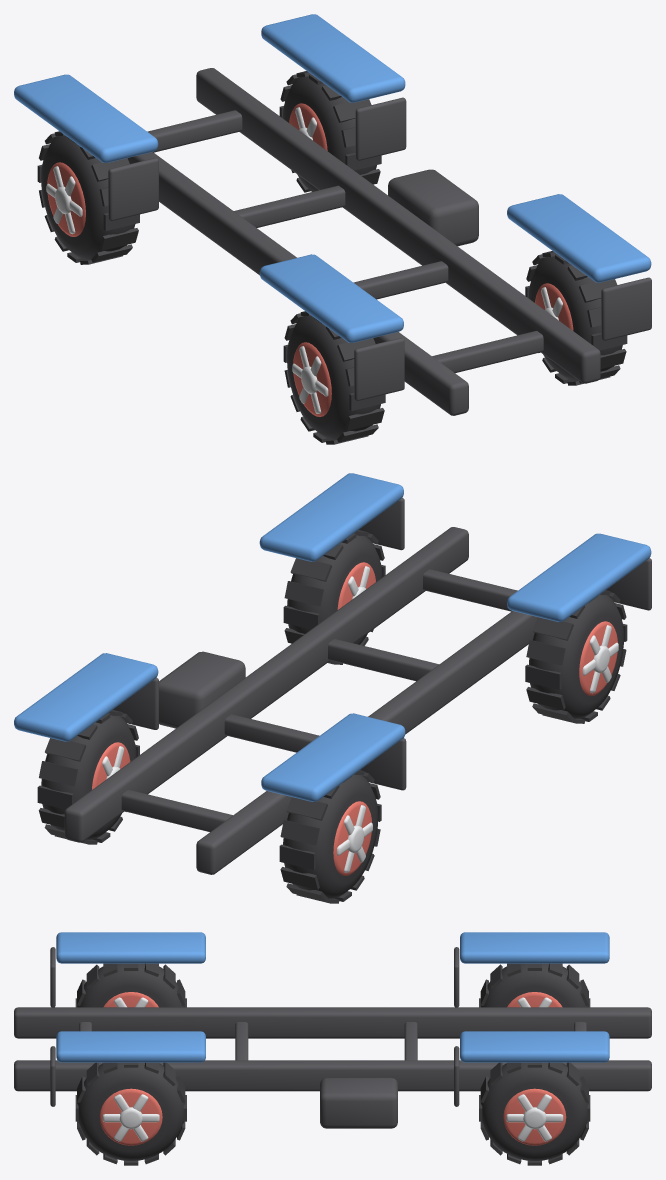
Rendered from Podwozie_Dostawczak.fbx.
The picture shows the model from 3 angles, top to bottom: view 1: azimuth 30°, elevation 25°; view 2: azimuth 150°, elevation 25°; view 3: azimuth 270°, elevation 25°; orthographic projection. The views are drawn at different scales.
Parts seen in each view (by area): view 1: body, wheel-back-right, wheel-front-right, wheel-back-left, wheel-front-left; view 2: body, wheel-front-right, wheel-back-right, wheel-front-left, wheel-back-left; view 3: body, wheel-back-left, wheel-front-left, wheel-back-right, wheel-front-right.
Part boxes in pixels (x1=…): body: x1=14, y1=14, x2=651, y2=415; wheel-back-right: x1=283, y1=311, x2=385, y2=444; wheel-front-right: x1=37, y1=131, x2=139, y2=264; wheel-back-left: x1=525, y1=251, x2=627, y2=385; wheel-front-left: x1=279, y1=71, x2=381, y2=192; body: x1=14, y1=473, x2=651, y2=874; wheel-front-right: x1=279, y1=770, x2=381, y2=903; wheel-back-right: x1=525, y1=590, x2=627, y2=723; wheel-front-left: x1=37, y1=710, x2=139, y2=844; wheel-back-left: x1=283, y1=530, x2=385, y2=664; body: x1=14, y1=932, x2=651, y2=1128; wheel-back-left: x1=75, y1=1062, x2=186, y2=1165; wheel-front-left: x1=479, y1=1062, x2=590, y2=1165; wheel-back-right: x1=75, y1=963, x2=186, y2=1007; wheel-front-right: x1=479, y1=963, x2=590, y2=1007.
Bounding box in the file's own units: 2.22 × 1.01 × 4.9.
